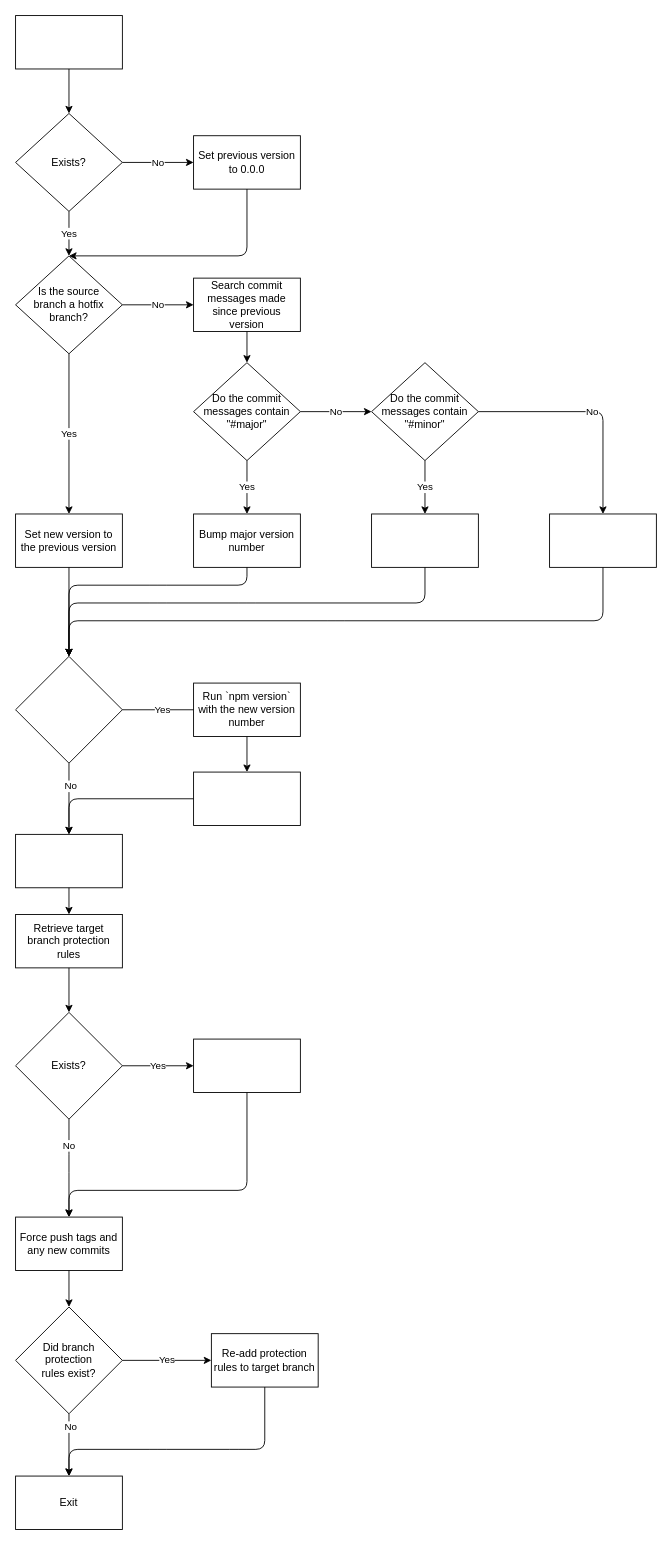
Some shapes in this 672 by 1545 pixel diagram are drawn without their labels. Each missing label, with the box of its shape:
Bump minor version number: (371, 513, 478, 567)
Bump patch version number: (549, 513, 656, 567)
Commit updated package.json: (193, 771, 300, 825)
Does a package.json exist?: (15, 655, 122, 763)
Get previous version tag from the target branch: (15, 15, 122, 69)
Remove branch protection rules: (193, 1038, 300, 1092)
Tag current commit with new version: (15, 833, 122, 888)
